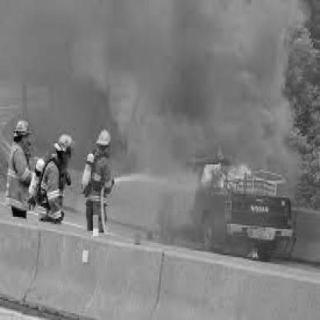other: (88, 120, 112, 153), (48, 128, 76, 154), (85, 200, 103, 240)
